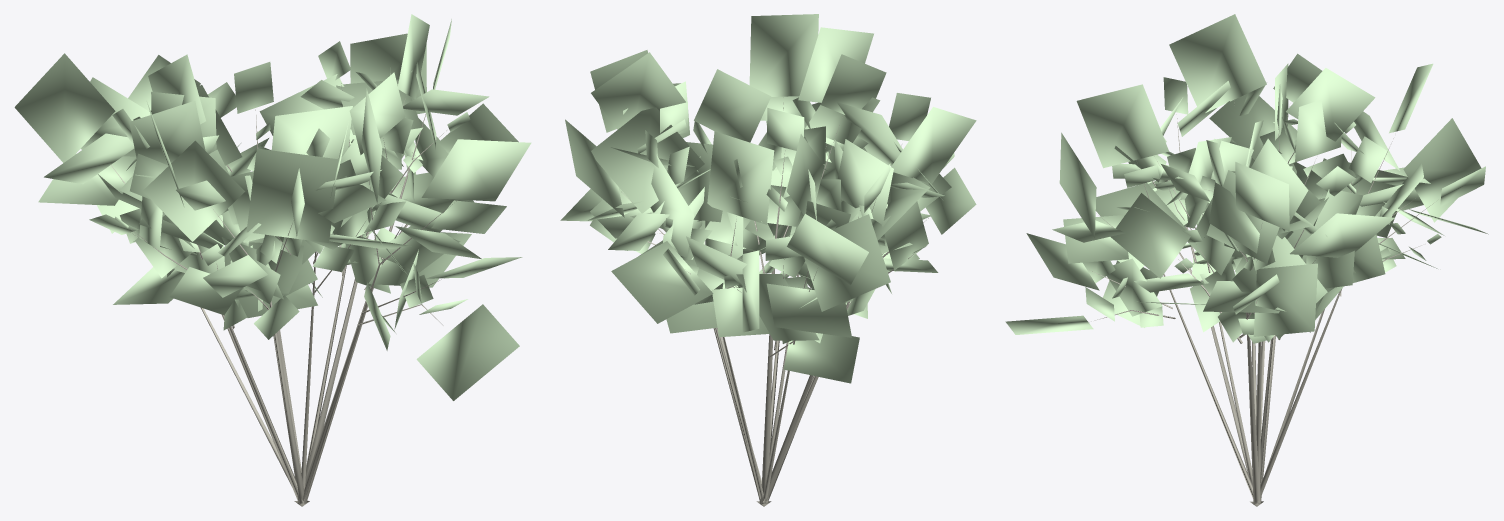
Rendered from bush_2_v1_lod2.glb.
3 views of the same model, side by side, from view 1: azimuth 30°, elevation 25°; view 2: azimuth 150°, elevation 25°; view 3: azimuth 270°, elevation 25° (orthographic). The views are drawn at different scales.
Parts seen in each view (by area): view 1: Leaves, Branches; view 2: Leaves, Branches; view 3: Leaves, Branches.
Boxes of the visible parts, box(x1,y1,x2,y2) form: Leaves: box(14, 14, 531, 400); Branches: box(110, 83, 456, 506); Leaves: box(560, 14, 976, 383); Branches: box(622, 103, 928, 506); Leaves: box(1005, 14, 1488, 343); Branches: box(1092, 106, 1433, 506).
Size of the model in its own units: 28.88 by 31.22 by 32.61.
